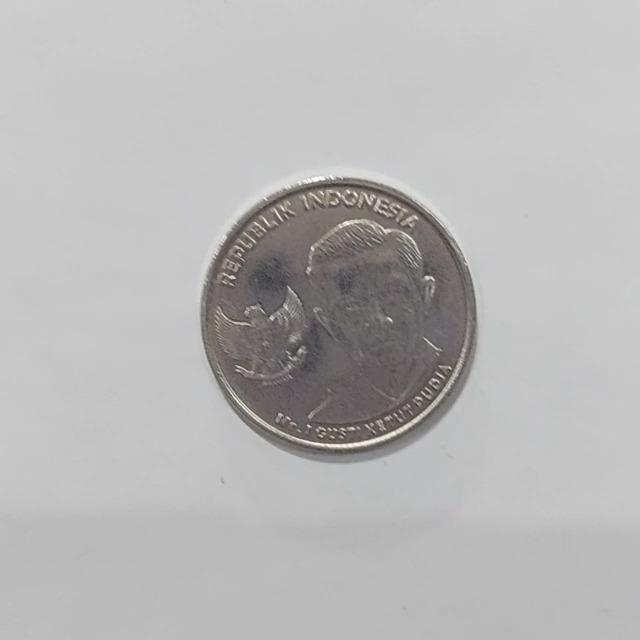Rp100: (198, 171, 478, 460)
